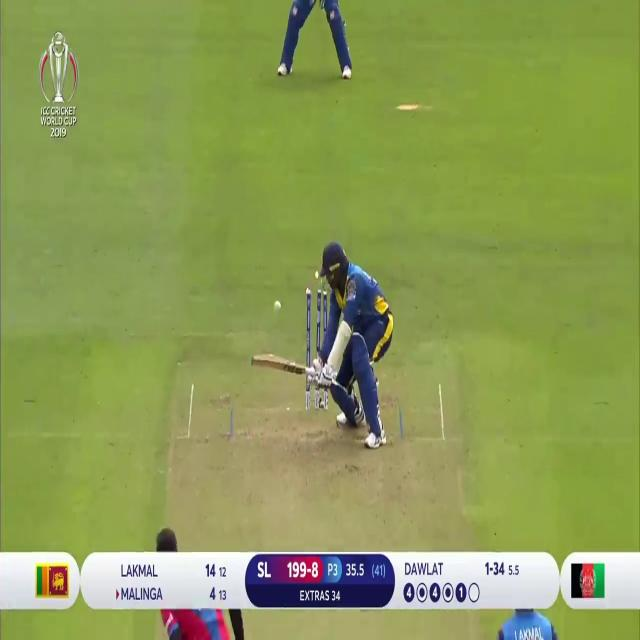ball: (272, 296, 284, 320)
